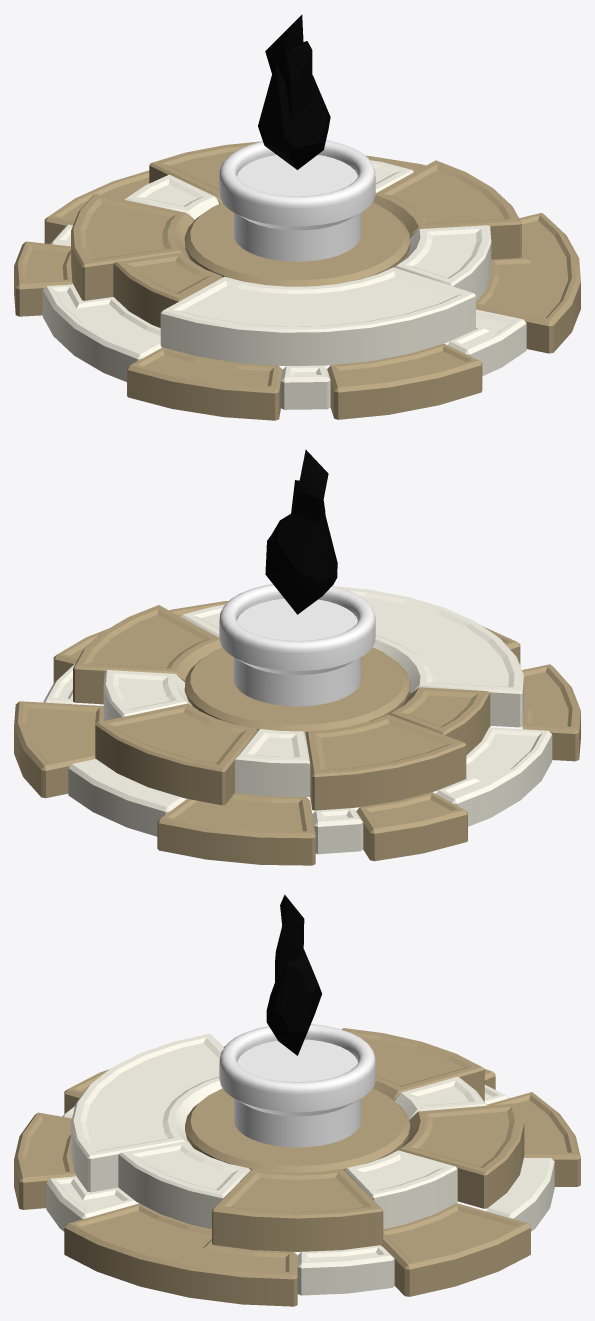
The model's file is central_crystal (4).fbx.
3 renders of one model, top to bottom at view 1: azimuth 30°, elevation 25°; view 2: azimuth 150°, elevation 25°; view 3: azimuth 270°, elevation 25°, orthographic.
Parts seen in each view (by area): view 1: Object001; view 2: Object001; view 3: Object001.
Boxes of the visible parts, left/top/right/bottom form: Object001: left=14, top=14, right=580, bottom=420; Object001: left=14, top=449, right=580, bottom=865; Object001: left=14, top=894, right=580, bottom=1306.
Bounding box in the file's own units: 3.38 × 2 × 3.52.
